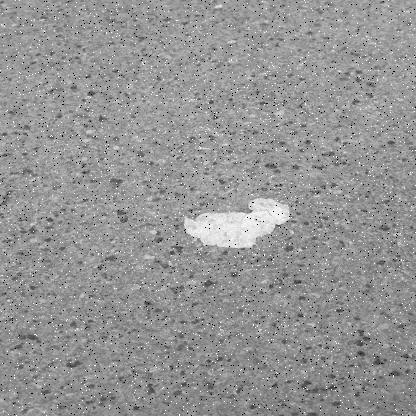other: (168, 184, 218, 290)
